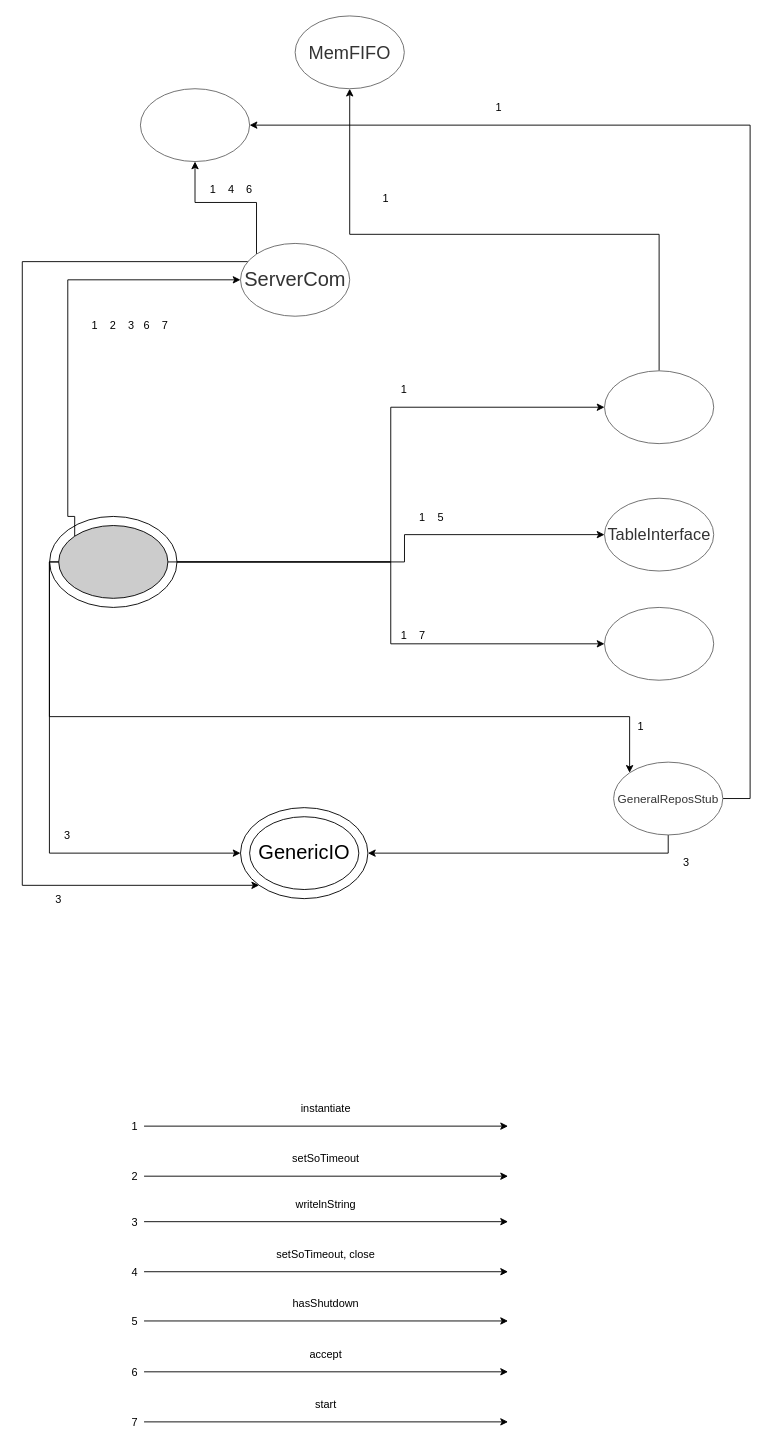
Some shapes in this 774 by 1447 pixel diagram are drawn without their labels. Here are the shapes that lost their labels. From the top down, the centre of each, then its label:
pixel 195 125: ServerSocket
pixel 659 407: Table
pixel 113 561: TableMain
pixel 659 643: ServiceProviderAgent
